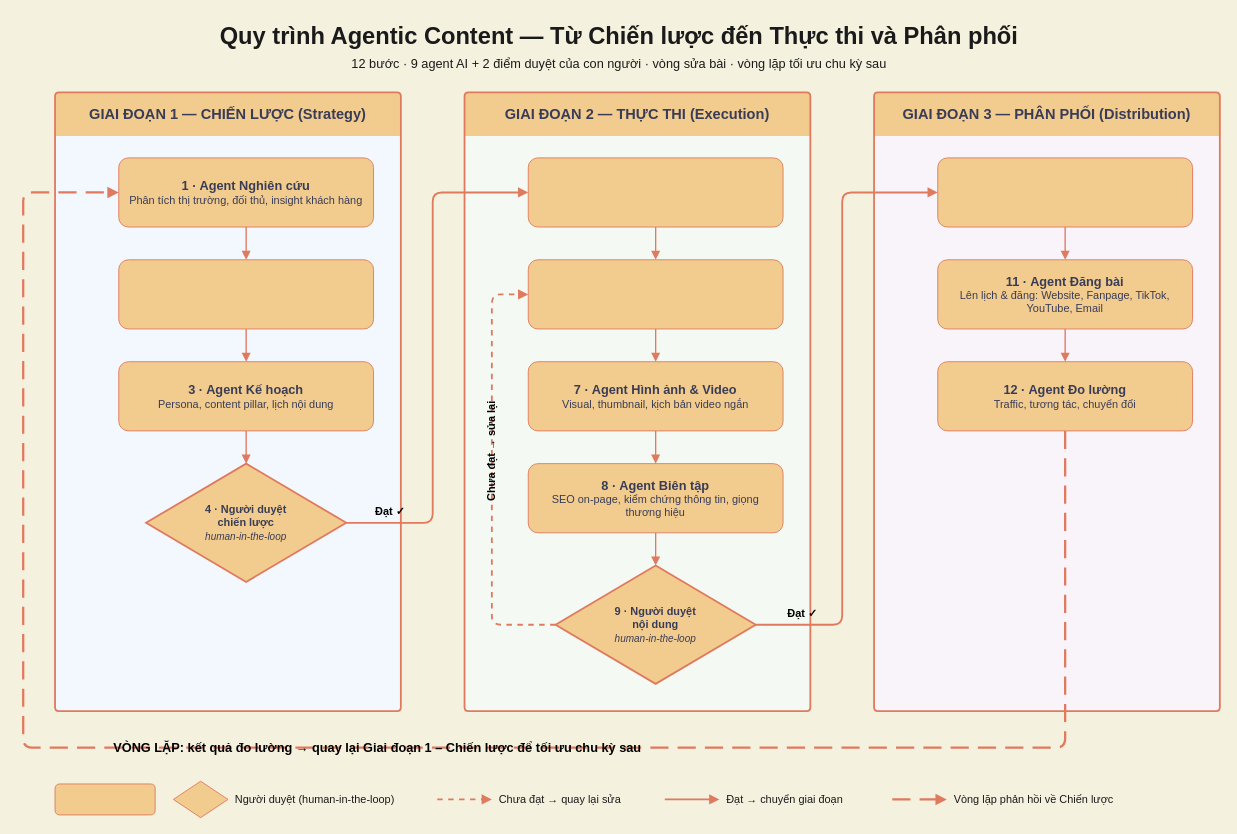
The diagram is 1237 pixels wide and 834 high, and some of its shapes have lost their labels. The shapes that lost their labels are listed below. From the top down, each one's centre as x and y in pixels, then its label:
(x=655, y=192): 5 · Agent Brief Dàn ý, outline, thông điệp chính
(x=1065, y=192): 10 · Agent Chuyển thể 1 bài gốc → nhiều định dạng (post, reel, email)
(x=246, y=294): 2 · Agent SEO & Từ khóa Nghiên cứu từ khóa, search intent, khoảng trống nội dung
(x=655, y=294): 6 · Agent Viết Bản nháp bài blog, fanpage, PR
(x=104, y=799): Agent AI
